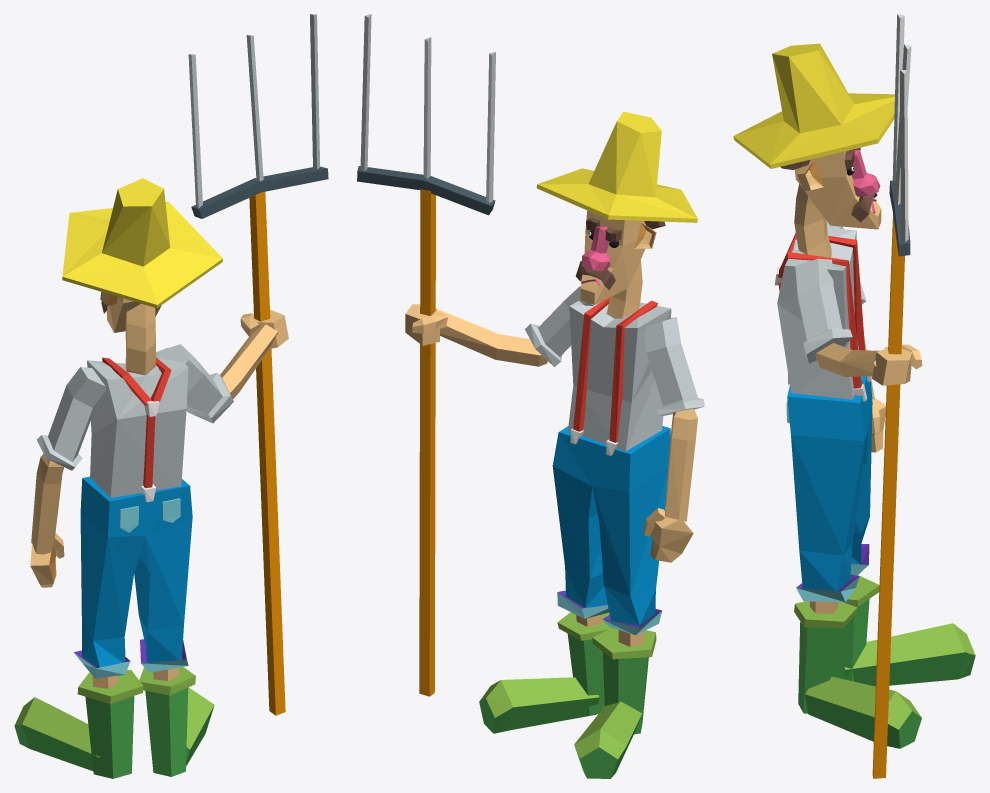
Rendered from scene_h3CAVy10NK.glb.
The picture shows the model from 3 angles, left to right: view 1: azimuth 30°, elevation 25°; view 2: azimuth 150°, elevation 25°; view 3: azimuth 270°, elevation 25°; orthographic projection. The views are drawn at different scales.
Parts seen in each view (by area): view 1: group325805732, group1652406783, group136211580, group531453205, group2143328547, group1762380710, group200871120, group640478274, group231912182, group702117413, group1017099937, group96341730 (+10 smaller); view 2: group325805732, group136211580, group1652406783, group531453205, group1983999098, group200871120, group2143328547, group640478274, group1411287227, group702117413, group1762380710, group767499517 (+11 smaller); view 3: group325805732, group1652406783, group531453205, group136211580, group640478274, group1983999098, group1762380710, group231912182, group1411287227, group2143328547, group96341730, group767499517 (+10 smaller).
Boxes of the visible parts, x1,y1,x2,y2 form: group325805732: (73,476,192,678); group1652406783: (62,178,222,308); group136211580: (87,347,188,497); group531453205: (249,192,285,715); group2143328547: (77,670,143,778); group1762380710: (138,667,195,776); group200871120: (36,367,105,470); group640478274: (14,697,99,770); group231912182: (158,344,233,423); group702117413: (31,454,64,554); group1017099937: (191,166,328,218); group96341730: (125,303,155,374); group325805732: (552,426,670,635); group136211580: (568,300,671,451); group1652406783: (536,111,697,222); group531453205: (419,189,435,696); group1983999098: (479,677,599,733); group200871120: (643,317,704,416); group2143328547: (592,628,656,734); group640478274: (574,701,643,778); group1411287227: (580,210,645,304); group702117413: (665,409,697,521); group1762380710: (557,612,613,715); group767499517: (436,309,547,366); group325805732: (787,376,872,602); group1652406783: (733,43,894,168); group531453205: (872,214,904,778); group136211580: (777,228,861,399); group640478274: (844,623,975,686); group1983999098: (805,676,921,748); group1762380710: (794,601,857,713); group231912182: (795,258,852,363); group1411287227: (794,150,881,229); group2143328547: (837,575,879,681); group96341730: (794,184,831,257); group767499517: (815,343,879,376).
Bounding box in the file's own units: 1.32 × 2.74 × 0.8125.
